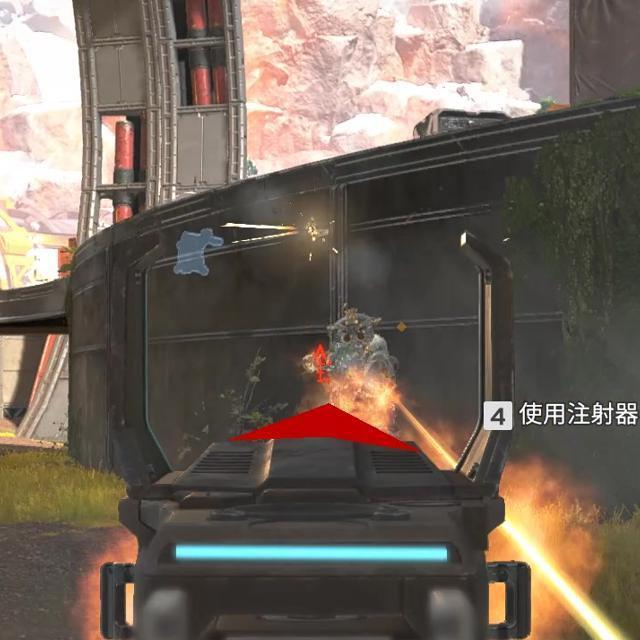avatar: (300, 306, 401, 385)
object: (330, 370, 397, 431)
